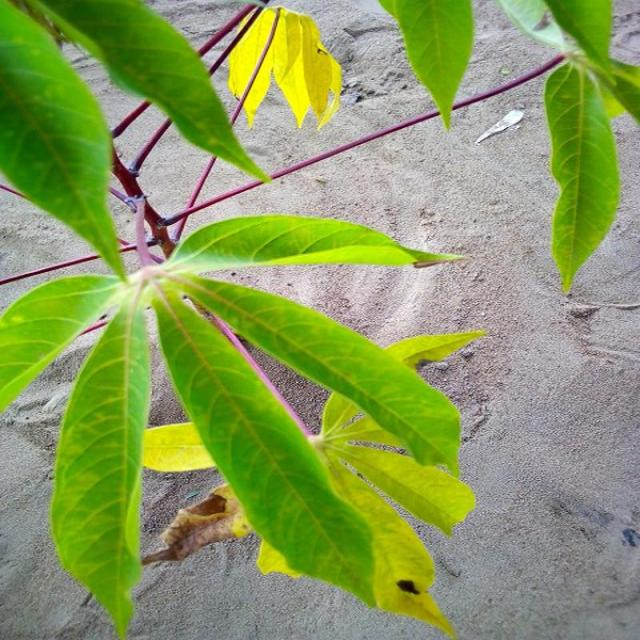cassava leaf: (1, 0, 486, 637), (182, 272, 464, 479), (36, 0, 273, 183), (49, 284, 152, 638), (1, 0, 130, 282), (544, 54, 622, 294), (227, 3, 343, 130), (378, 0, 477, 130)
